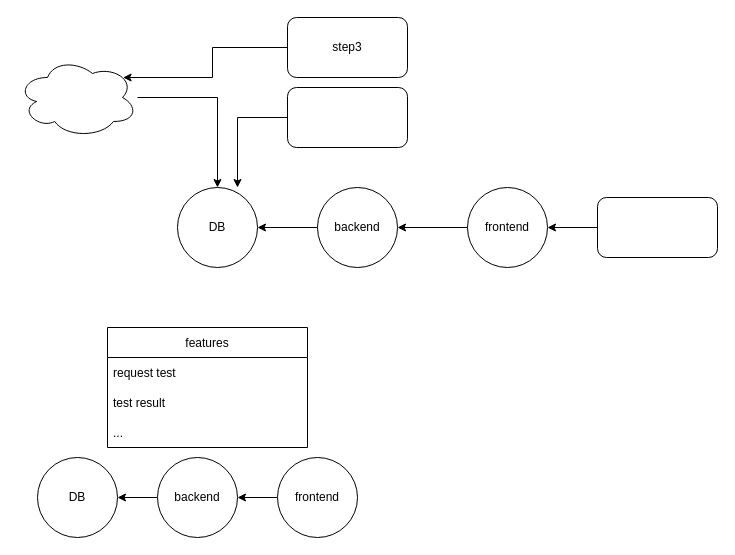
Image size: 735x555. Some labels were removed from this diagram. Here are the shapes that lost their labels. From the top down, the centre of each, then its label:
At [77,97]: "bimeh".
At [347,117]: "step2".
At [657,227]: "step 1".
